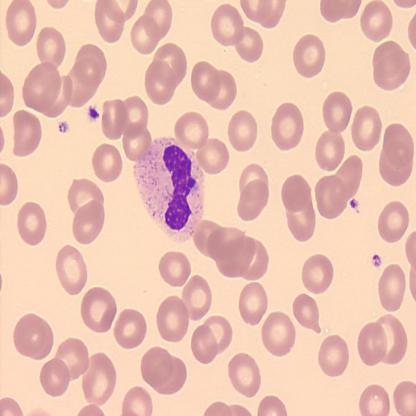Band Neutrophil: (132, 134, 207, 246)
